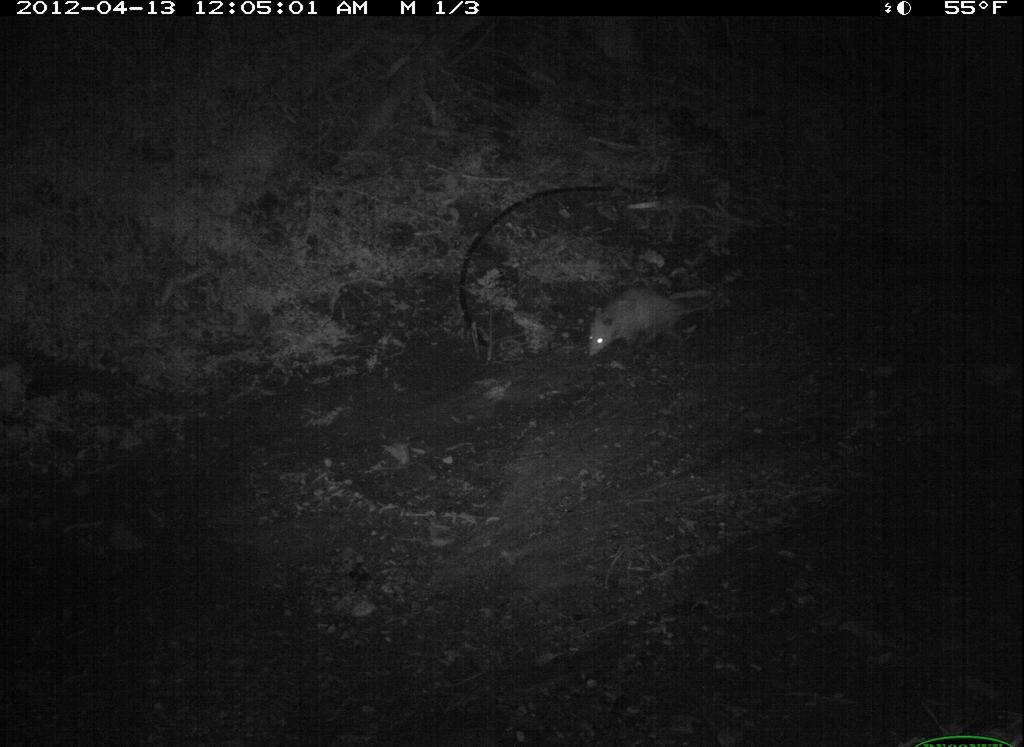opossum: (580, 274, 722, 367)
